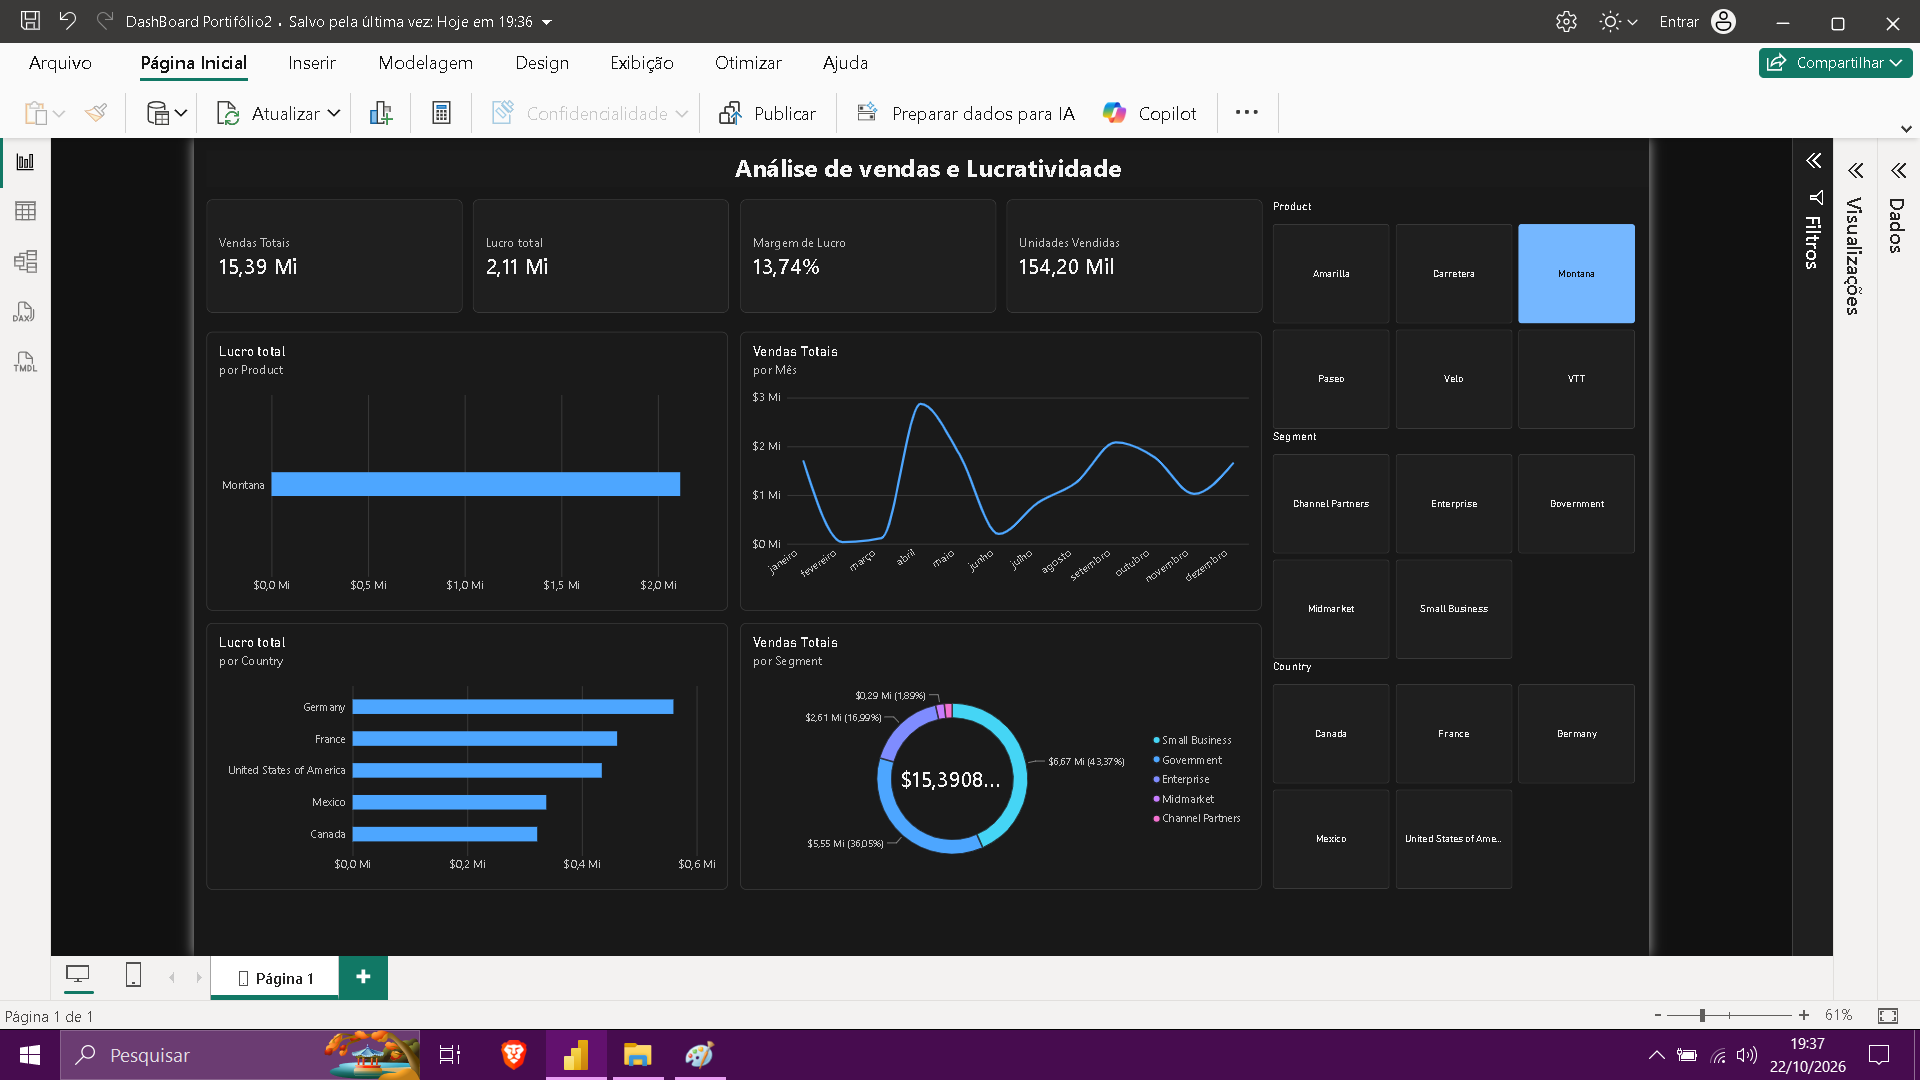

The dashboard page shown, as its layout file describes it:
{"tool":"powerbi","page":{"name":"Página 1","canvas":[1920,1080],"ordinal":0},"visuals":[{"type":"textbox","box":[16,16,1904,48],"z":0},{"type":"cardVisual","fields":{"Data":["financials.Vendas Totais"]},"box":[16,80,338.5,150.3],"z":1000},{"type":"cardVisual","fields":{"Data":["financials.Lucro total"]},"box":[368,80,338.5,150.3],"z":2000},{"type":"cardVisual","fields":{"Data":["financials.Margem de Lucro"]},"box":[720,80,338.5,150.3],"z":3000},{"type":"cardVisual","fields":{"Data":["financials.Unidades Vendidas"]},"box":[1072,80,338.5,150.3],"z":4000},{"type":"lineChart","fields":{"Category":["financials.Date.Variação.Hierarquia de datas.Ano","financials.Date.Variação.Hierarquia de datas.Trimestre","financials.Date.Variação.Hierarquia de datas.Mês","financials.Date.Variação.Hierarquia de datas.Dia"],"Y":["financials.Vendas Totais"]},"box":[720,256,688,368],"z":5000},{"type":"clusteredBarChart","fields":{"Category":["financials.Product"],"Y":["financials.Lucro total"]},"box":[16,256,688,368],"z":6000},{"type":"donutChart","fields":{"Category":["financials.Segment"],"Y":["financials.Vendas Totais"]},"box":[720,640,688,352],"z":7000},{"type":"clusteredBarChart","fields":{"Category":["financials.Country"],"Y":["financials.Lucro total"]},"box":[16,640,688,352],"z":8000},{"type":"advancedSlicerVisual","fields":{"Values":["financials.Country"]},"box":[1424,688,480,304],"z":9000},{"type":"advancedSlicerVisual","fields":{"Values":["financials.Segment"]},"box":[1424,384,480,304],"z":10000},{"type":"advancedSlicerVisual","fields":{"Values":["financials.Product"]},"box":[1424,80,480,304],"z":11000}]}

Visuals, with their boxes on the page's 1920x1080 design canvas (x1, y1, x2, y2). These are canvas units, not pixel positions in the 1920x1080 screenshot, which may show the page scaled, cropped or inside an application window:
textbox: x1=16 y1=16 x2=1920 y2=64
cardVisual - financials.Vendas Totais: x1=16 y1=80 x2=354 y2=230
cardVisual - financials.Lucro total: x1=368 y1=80 x2=706 y2=230
cardVisual - financials.Margem de Lucro: x1=720 y1=80 x2=1058 y2=230
cardVisual - financials.Unidades Vendidas: x1=1072 y1=80 x2=1410 y2=230
lineChart - financials.Date.Variação.Hierarquia de datas.Ano x financials.Date.Variação.Hierarquia de datas.Trimestre: x1=720 y1=256 x2=1408 y2=624
clusteredBarChart - financials.Product x financials.Lucro total: x1=16 y1=256 x2=704 y2=624
donutChart - financials.Segment x financials.Vendas Totais: x1=720 y1=640 x2=1408 y2=992
clusteredBarChart - financials.Country x financials.Lucro total: x1=16 y1=640 x2=704 y2=992
advancedSlicerVisual - financials.Country: x1=1424 y1=688 x2=1904 y2=992
advancedSlicerVisual - financials.Segment: x1=1424 y1=384 x2=1904 y2=688
advancedSlicerVisual - financials.Product: x1=1424 y1=80 x2=1904 y2=384
